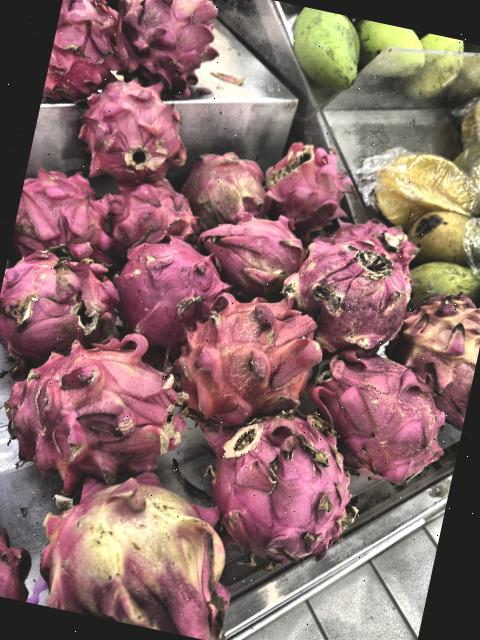buah-naga-belum-matang: (24, 445, 261, 640), (384, 278, 480, 413), (179, 140, 275, 229), (0, 484, 49, 602)
buah-naga-matang: (0, 324, 212, 490), (192, 396, 368, 572), (313, 342, 468, 488), (168, 276, 319, 417), (0, 237, 130, 370), (71, 72, 206, 198), (287, 230, 418, 354), (195, 200, 320, 300), (112, 226, 218, 340), (110, 0, 230, 97), (10, 162, 118, 266), (252, 130, 362, 230), (91, 165, 212, 251), (44, 0, 136, 101)
